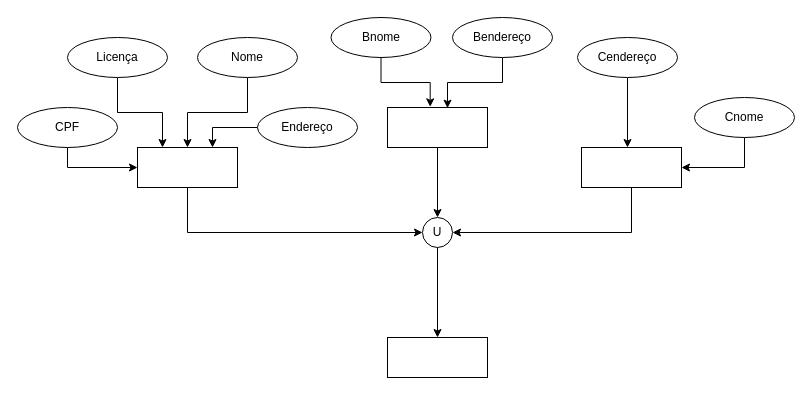
The diagram is 812 pixels wide and 395 high, and some of its shapes have lost their labels. The centre of each missing label's shape, as x and y in pixels:
"Banco" goes at point (437, 127).
"Compania" goes at point (631, 167).
"Owner" goes at point (437, 357).
"Pessoa" goes at point (187, 167).
